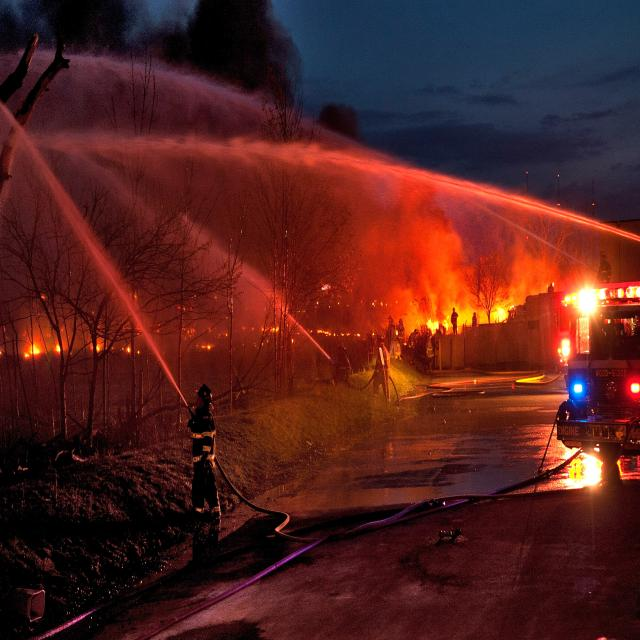Fire: (427, 283, 516, 342), (318, 320, 367, 340), (24, 332, 48, 369), (255, 320, 294, 338), (53, 335, 68, 364), (87, 330, 104, 355)
